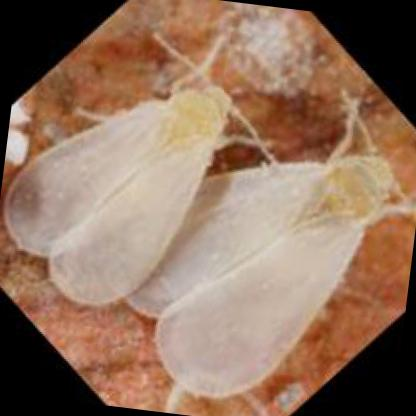whitefly: (129, 150, 399, 398), (4, 84, 229, 306)
